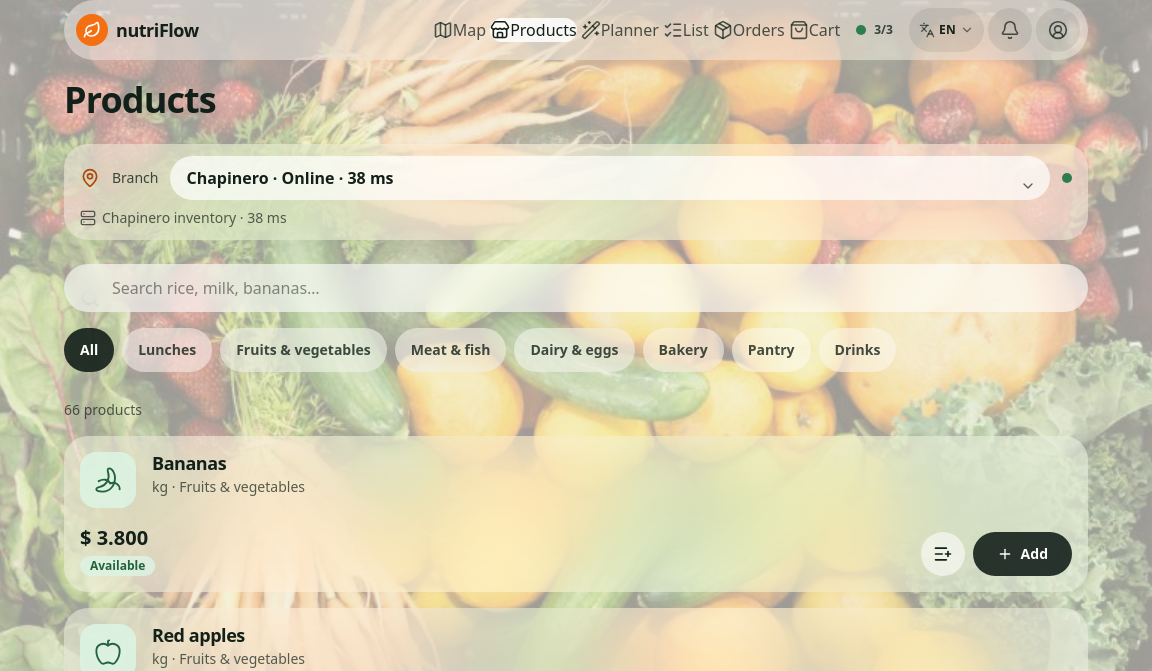
Test: Shopping list and cart › builds a list and moves what is missing to the cart
Expected: the text "66 products" is shown, [64,400,142,419]
Click the button named "Add Bananas to the list".
click(943, 554)  # box [921,532,965,576]
(page scrolled)
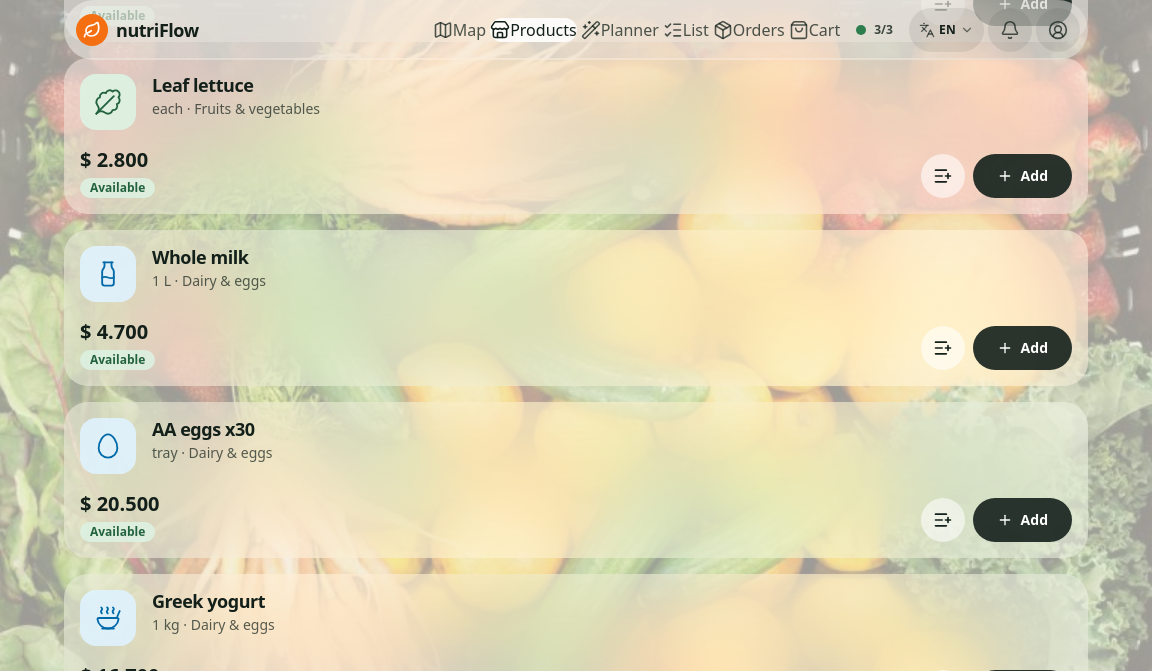
Click the button named "Add Whole milk to the list".
click(943, 348)  # box [921,326,965,370]
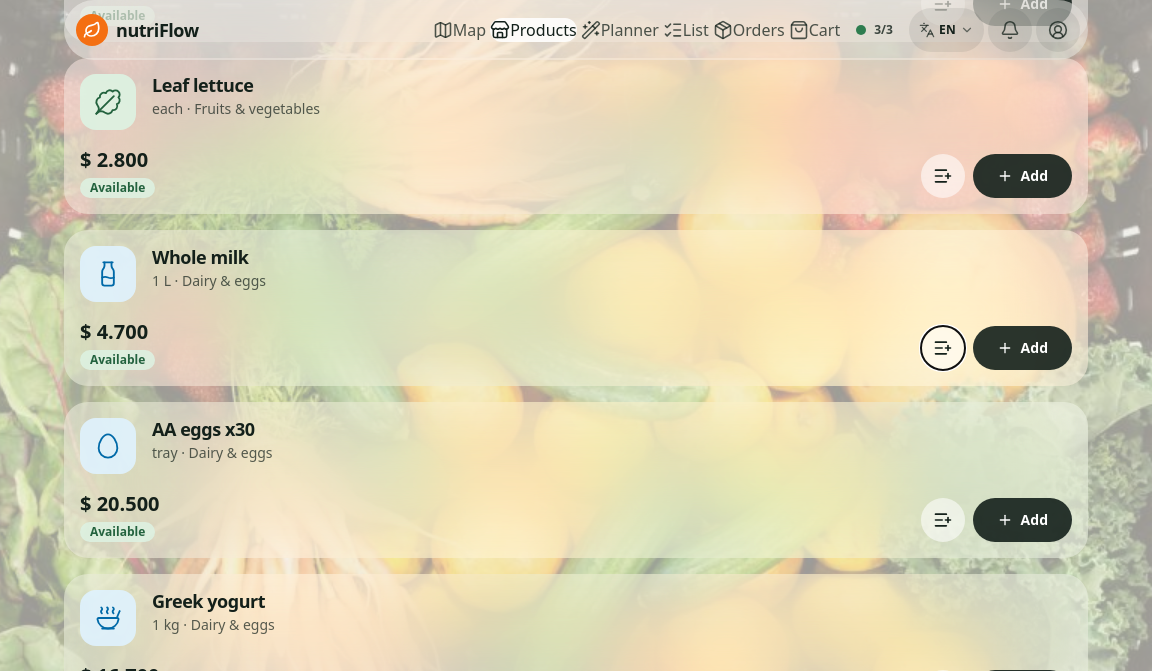
Click the link "List".
click(686, 30)  # box [663,18,709,42]
(page scrolled)
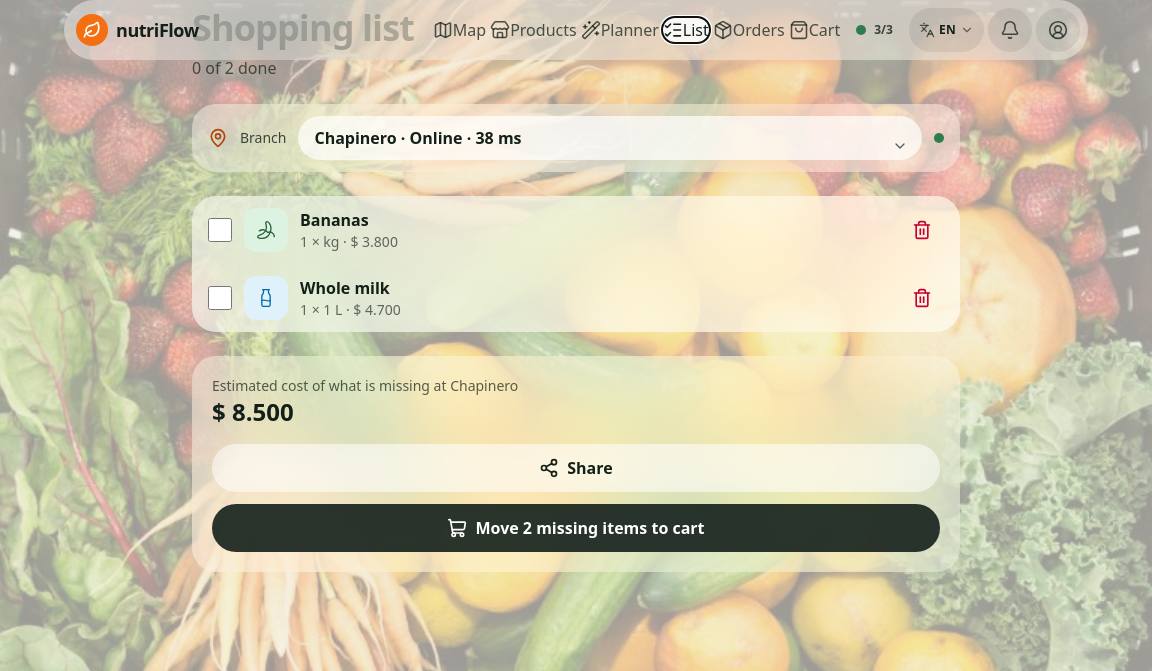
Expected: the text with test id "list-progress" reads "0 of 2 done", [192,57,276,79]
Click the checkbox named "Already have it: Whole milk".
click(220, 298)  # box [208,286,232,310]
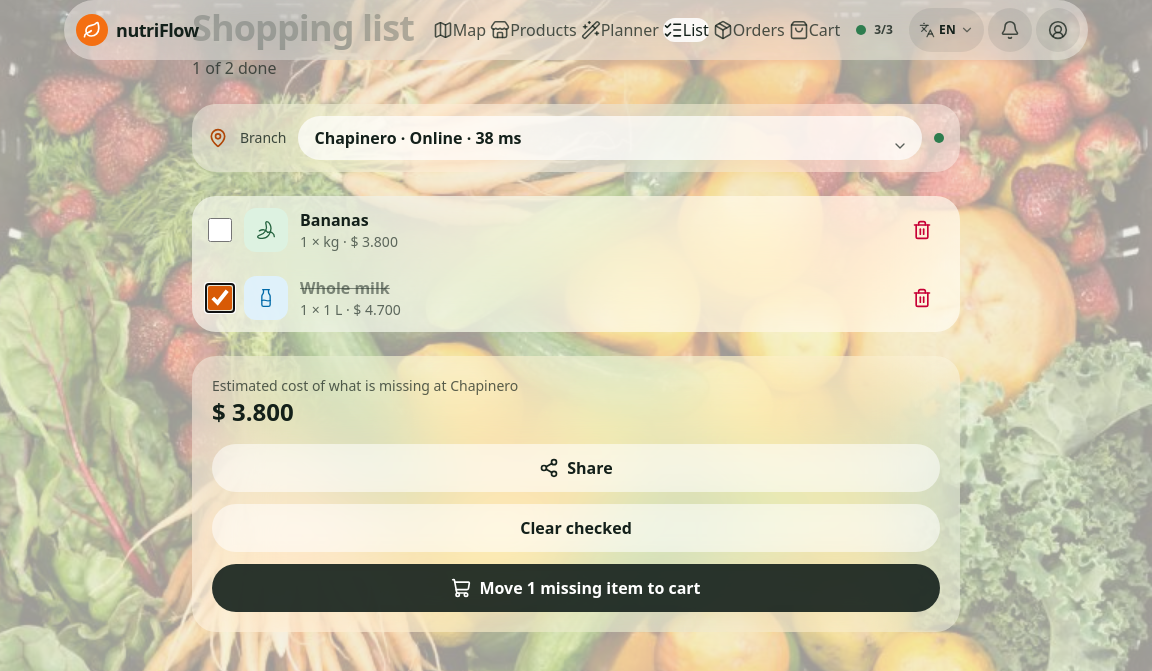
Expected: the text with test id "list-progress" reads "1 of 2 done", [192,57,276,79]
Click the button "Move 1 missing item to cart".
click(576, 588)  # box [212,564,940,612]
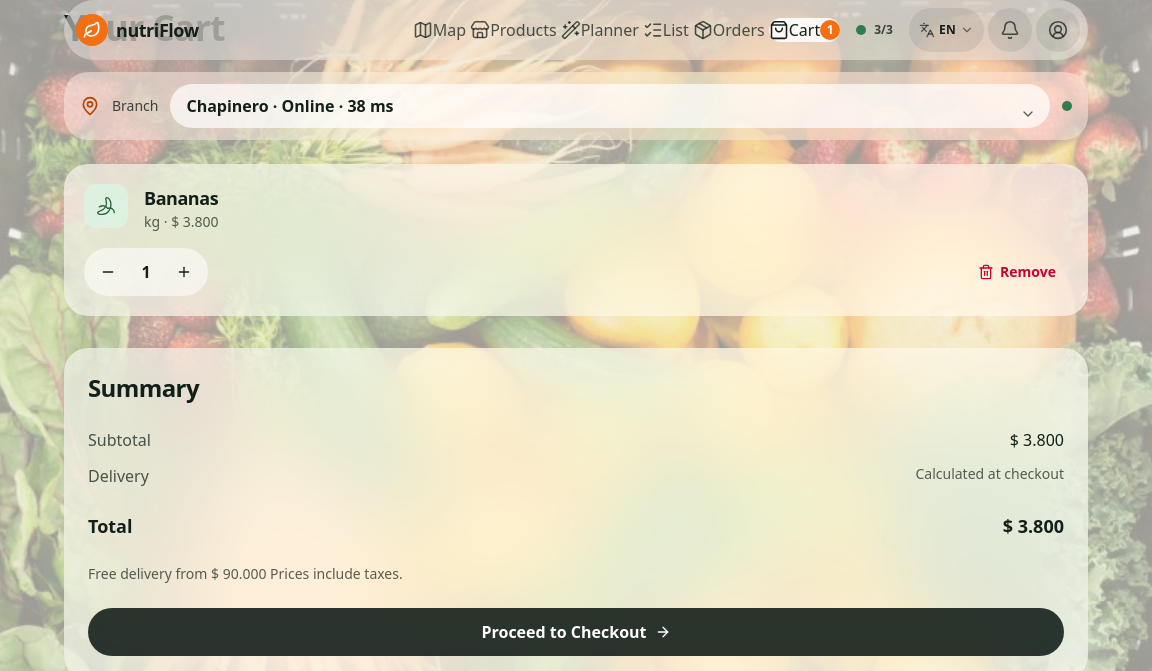
Expected: the text named "Quantity of Bananas" reads "1", [141,261,151,283]
Expected: the heading "Your Cart" is shown, [64,3,225,52]
Expected: the link with aria-label "Cart, 1 item" is shown, [769,18,840,42]
